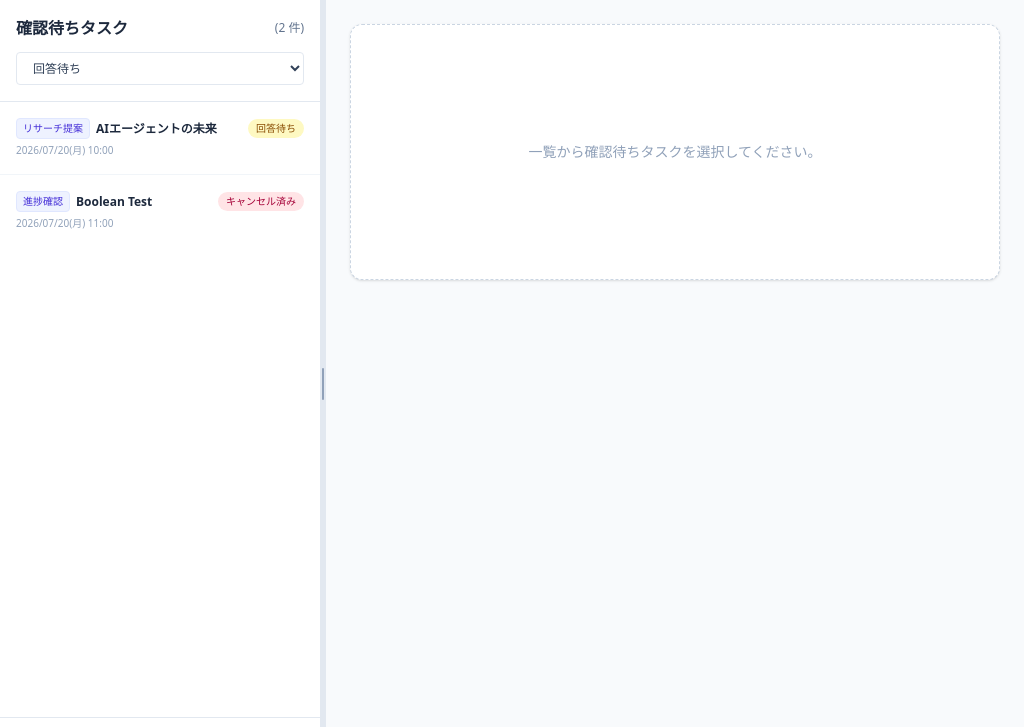
it: HitlPage › calendar/reminder context rendering › renders reminder due_date as YMD via formatYmdWithDow
Click the text "AIエージェントの未来": [156, 128] box [96,120,217,136]
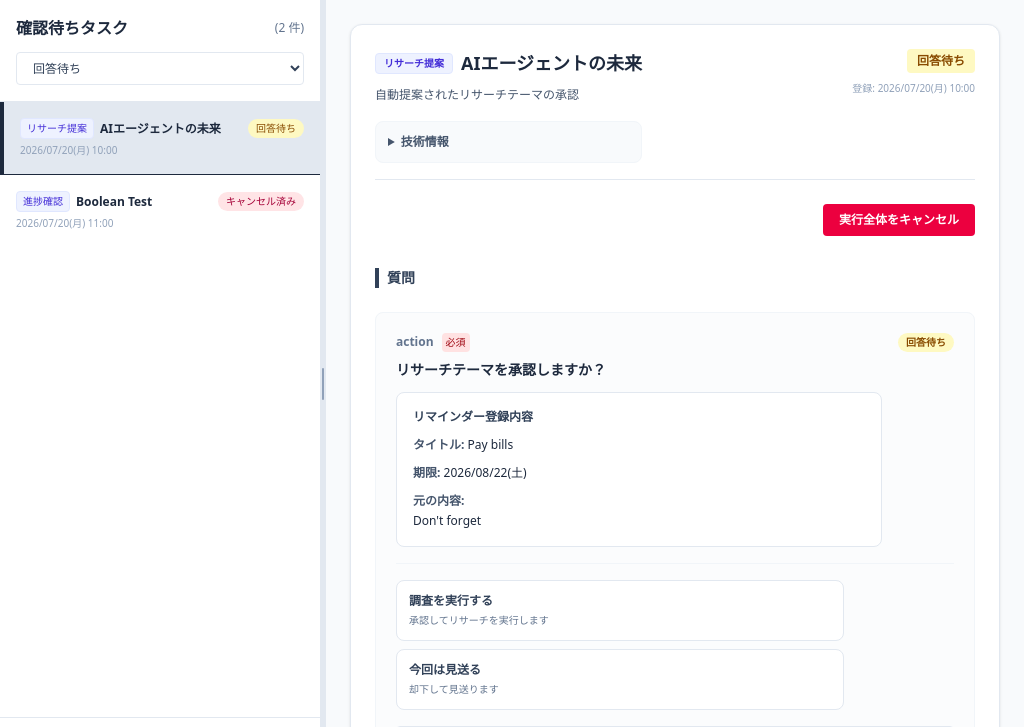
Check: the element with test id "reminder-context" shows "タイトル: Pay bills", box [396,392,882,547]
Check: the element with test id "reminder-context" shows "期限: 2026/08/22(土)", box [396,392,882,547]
Check: the element with test id "reminder-context" shows "元の内容: Don't forget", box [396,392,882,547]
